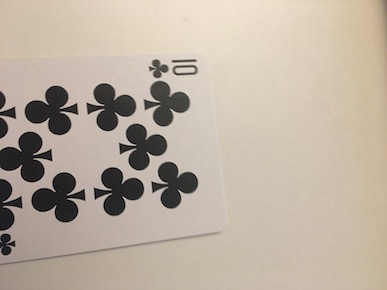TenOfClubs: (1, 44, 229, 266)
